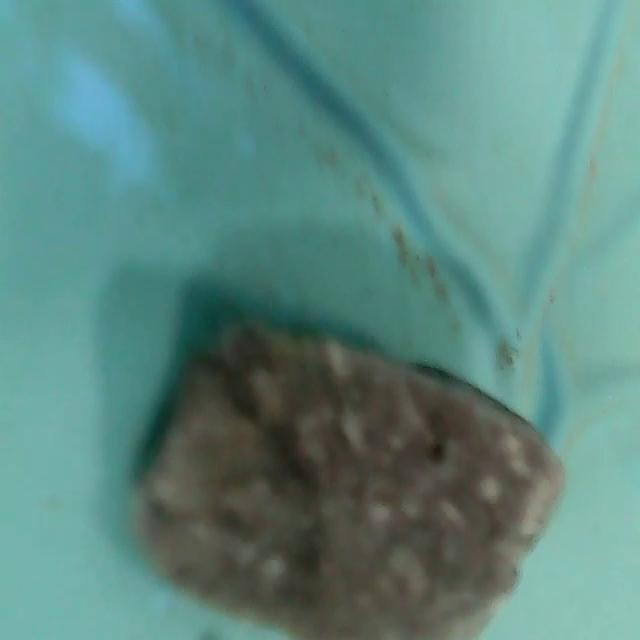rock: (129, 322, 569, 638)
